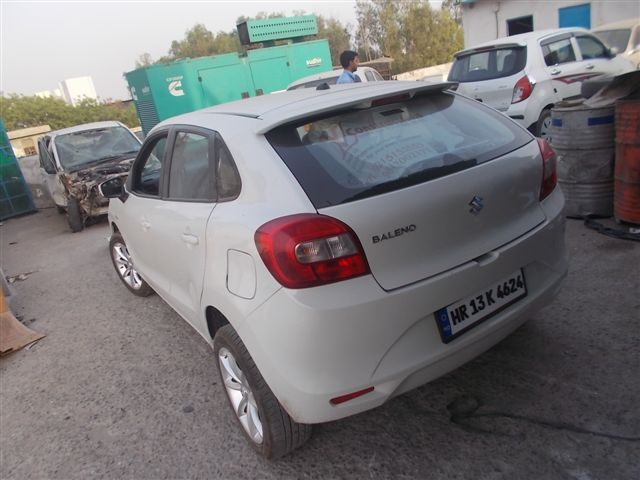Shatter: (319, 92, 364, 132)
